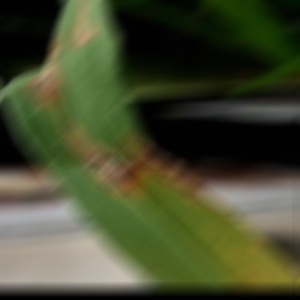Brown_Spot: (56, 118, 148, 195), (117, 123, 219, 192), (16, 32, 62, 108), (63, 0, 99, 43)
